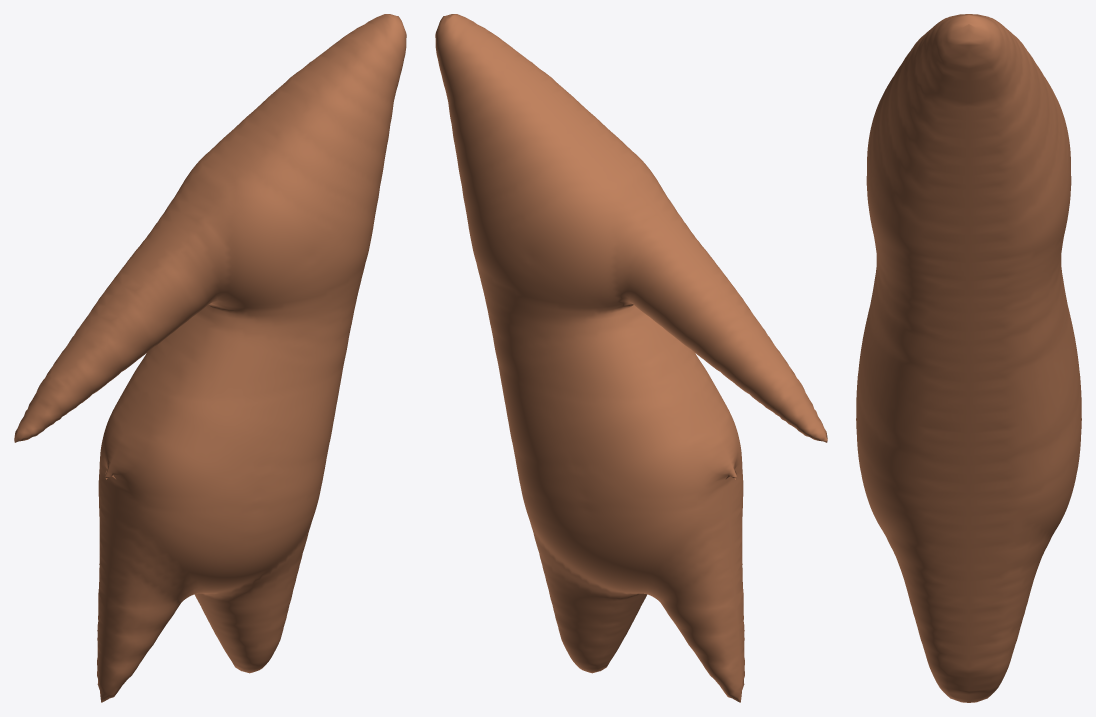
Rendered from water.fbx.
3 renders of one model, left to right at view 1: azimuth 30°, elevation 25°; view 2: azimuth 150°, elevation 25°; view 3: azimuth 270°, elevation 25°, orthographic. The views are drawn at different scales.
Visible parts, largest first — view 1: root; view 2: root; view 3: root.
Part boxes in pixels (box(x1,y1,x2,y2)): root: box(14, 14, 406, 702); root: box(435, 14, 827, 702); root: box(856, 14, 1081, 702).
Size of the model in its own units: 0.3275 by 0.5004 by 0.1324.
